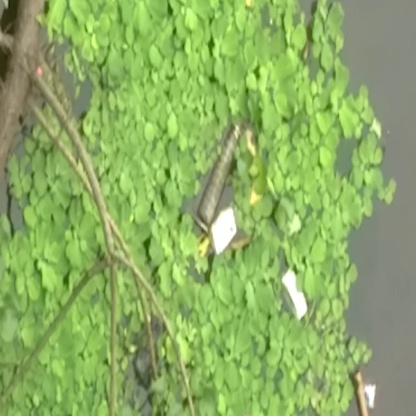branch: (43, 97, 172, 381)
